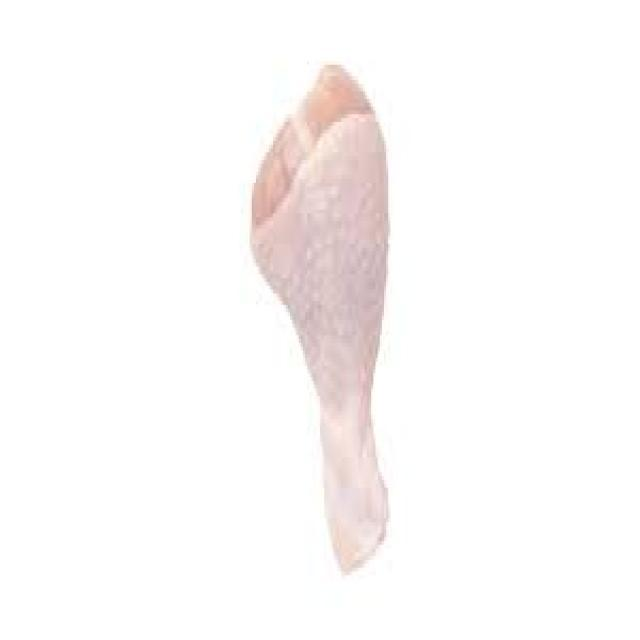leg: (244, 68, 405, 566)
